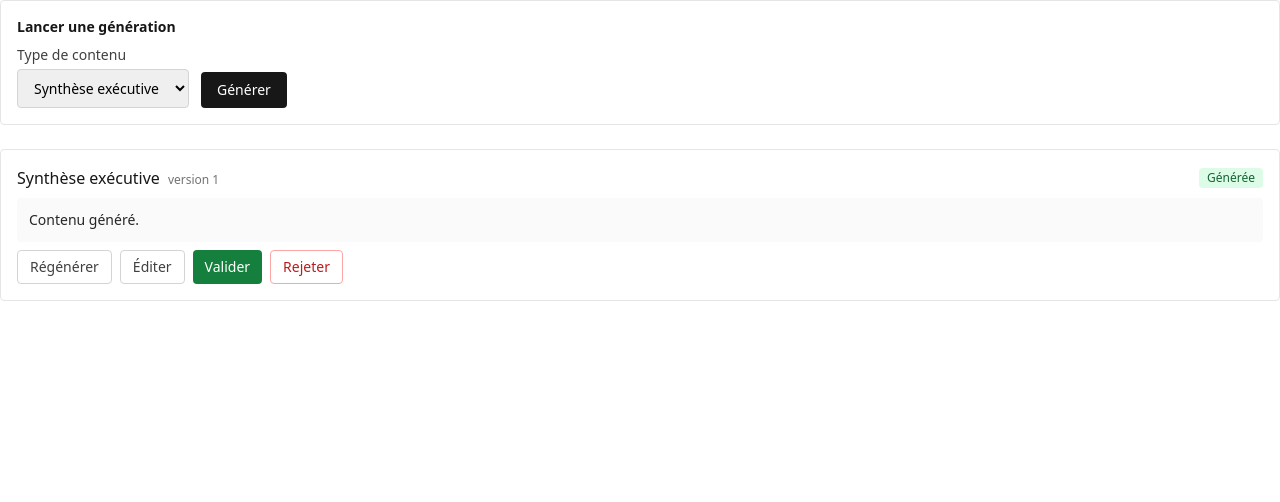
Test case: GenerationSection › reject › réaudit Codex P1 — shows the backend's French error message when rejection fails (e.g. already validated), never a raw code
Click the button "Rejeter" at (307, 267), box [270,250,343,284]
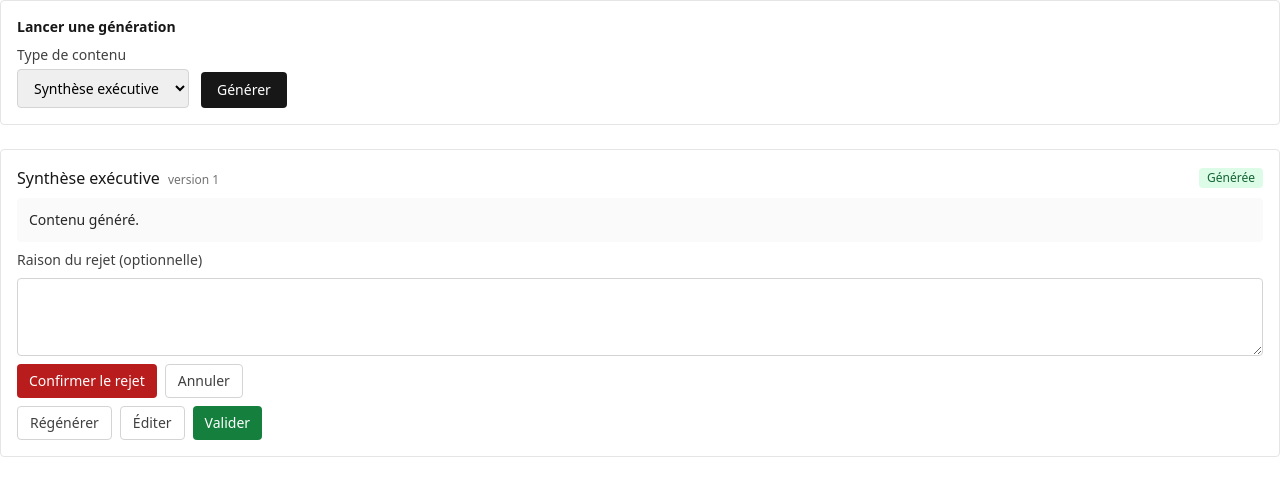
Click the button "Confirmer le rejet" at (87, 381), box [17,364,157,398]
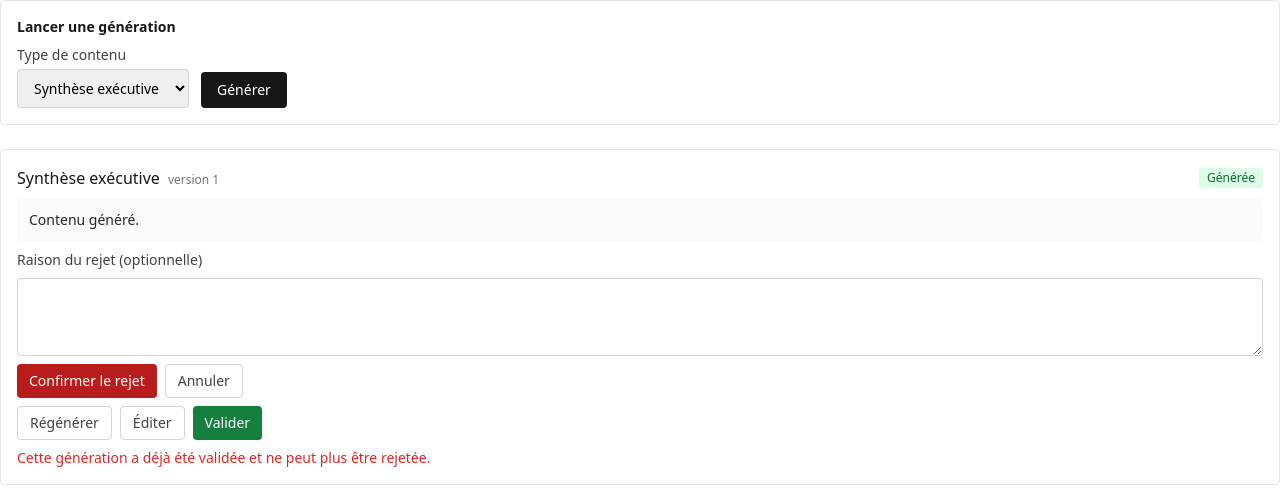
Check: the message reads "Cette génération a déjà été validée et ne peut plus être rejetée.", box [17,448,430,467]
